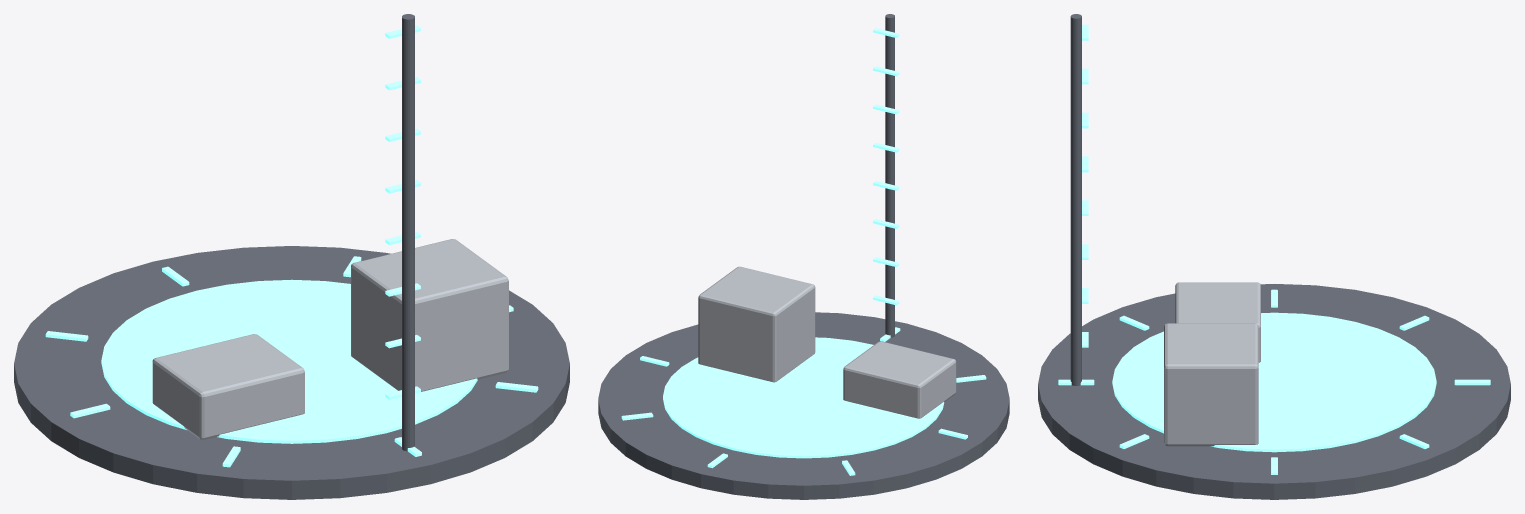
Rendered from mannequin_action_stage_pedestal.glb.
3 renders of one model, left to right at view 1: azimuth 30°, elevation 25°; view 2: azimuth 150°, elevation 25°; view 3: azimuth 270°, elevation 25°, orthographic. The views are drawn at different scales.
Parts seen in each view (by area): view 1: HeightRulerPillar, AngleMarker_0, ActionStepHigh; view 2: HeightRulerPillar, AngleMarker_0, ActionStepHigh; view 3: HeightRulerPillar, AngleMarker_0, ActionStepHigh.
Boxes of the visible parts, left/top/right/bottom form: HeightRulerPillar: left=14, top=14, right=569, bottom=499; AngleMarker_0: left=45, top=25, right=538, bottom=467; ActionStepHigh: left=152, top=239, right=508, bottom=439; HeightRulerPillar: left=598, top=14, right=1009, bottom=499; AngleMarker_0: left=621, top=28, right=986, bottom=475; ActionStepHigh: left=698, top=266, right=956, bottom=418; HeightRulerPillar: left=1038, top=14, right=1510, bottom=499; AngleMarker_0: left=1058, top=24, right=1490, bottom=474; ActionStepHigh: left=1164, top=282, right=1260, bottom=446.
Size of the model in its own units: 2.1 by 1.88 by 2.1.
